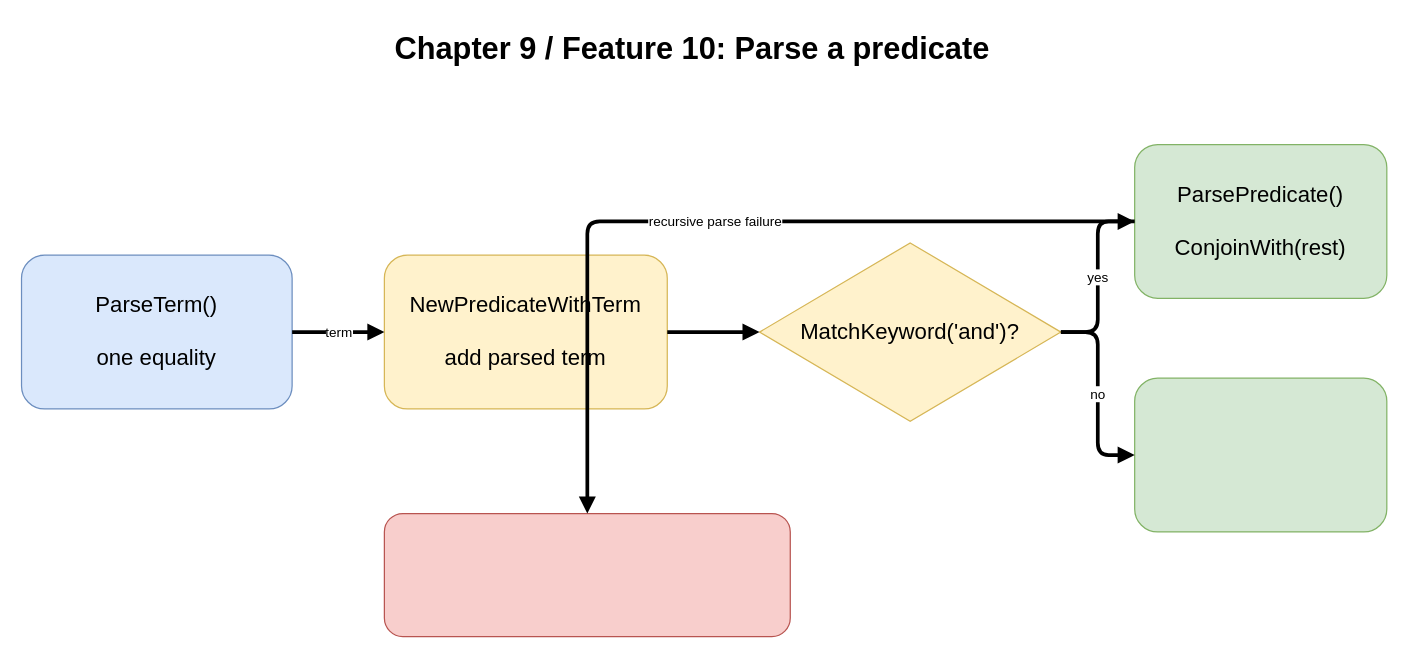
The diagram is 1408 pixels wide and 658 high, and some of its shapes have lost their labels. Here are the shapes that lost their labels. From the top down, the box of each, then its label:
(1133, 377, 1387, 532): return predicate next grammar token remains
(383, 512, 790, 637): invalid term after AND contextual byte offset prior consumption remains
